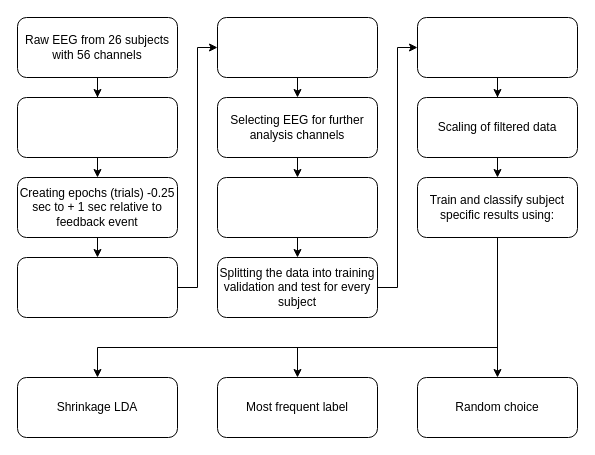
Some shapes in this 595 by 455 pixel diagram are drawn without their labels. The centre of each missing label's shape, as x and y in pixels:
"Baseline correction on -0.25 sec to 0 sec relative to feedback event" belongs at (x=97, y=287).
"IIR filter - 4th order Butterworth bandpass filter" belongs at (x=97, y=127).
"Selecting 0.2 sec to 0.6 sec after feedback event for ErrP classification" belongs at (x=297, y=207).
"Signal downsampling from 200 Hz to 100 Hz" belongs at (x=297, y=47).
"Xdawn filtering with 5 components" belongs at (x=497, y=47).
